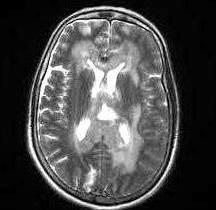Normal_Brain: (1, 1, 208, 210)
